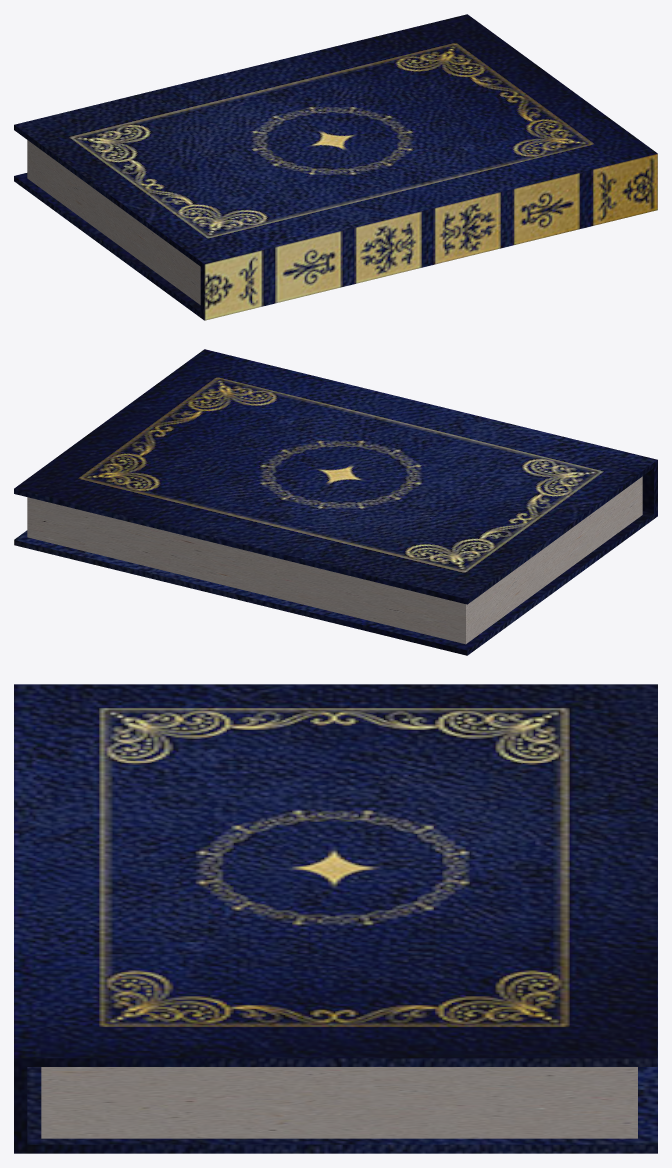
File: Livre_Bleu_Low_3.gltf
The picture shows the model from 3 angles, top to bottom: view 1: azimuth 30°, elevation 25°; view 2: azimuth 150°, elevation 25°; view 3: azimuth 270°, elevation 25°; orthographic projection. The views are drawn at different scales.
Parts seen in each view (by area): view 1: Cover, Book; view 2: Cover, Book; view 3: Cover, Book.
Part boxes in pixels (box(x1,y1,x2,y2)): Cover: box(14, 14, 657, 320); Book: box(27, 140, 200, 304); Cover: box(14, 349, 657, 655); Book: box(27, 476, 642, 644); Cover: box(14, 684, 657, 1153); Book: box(41, 1067, 637, 1138).
Bounding box in the file's own units: 0.3076 × 0.0366 × 0.224.
Materials: 2 (2 with a texture image).
